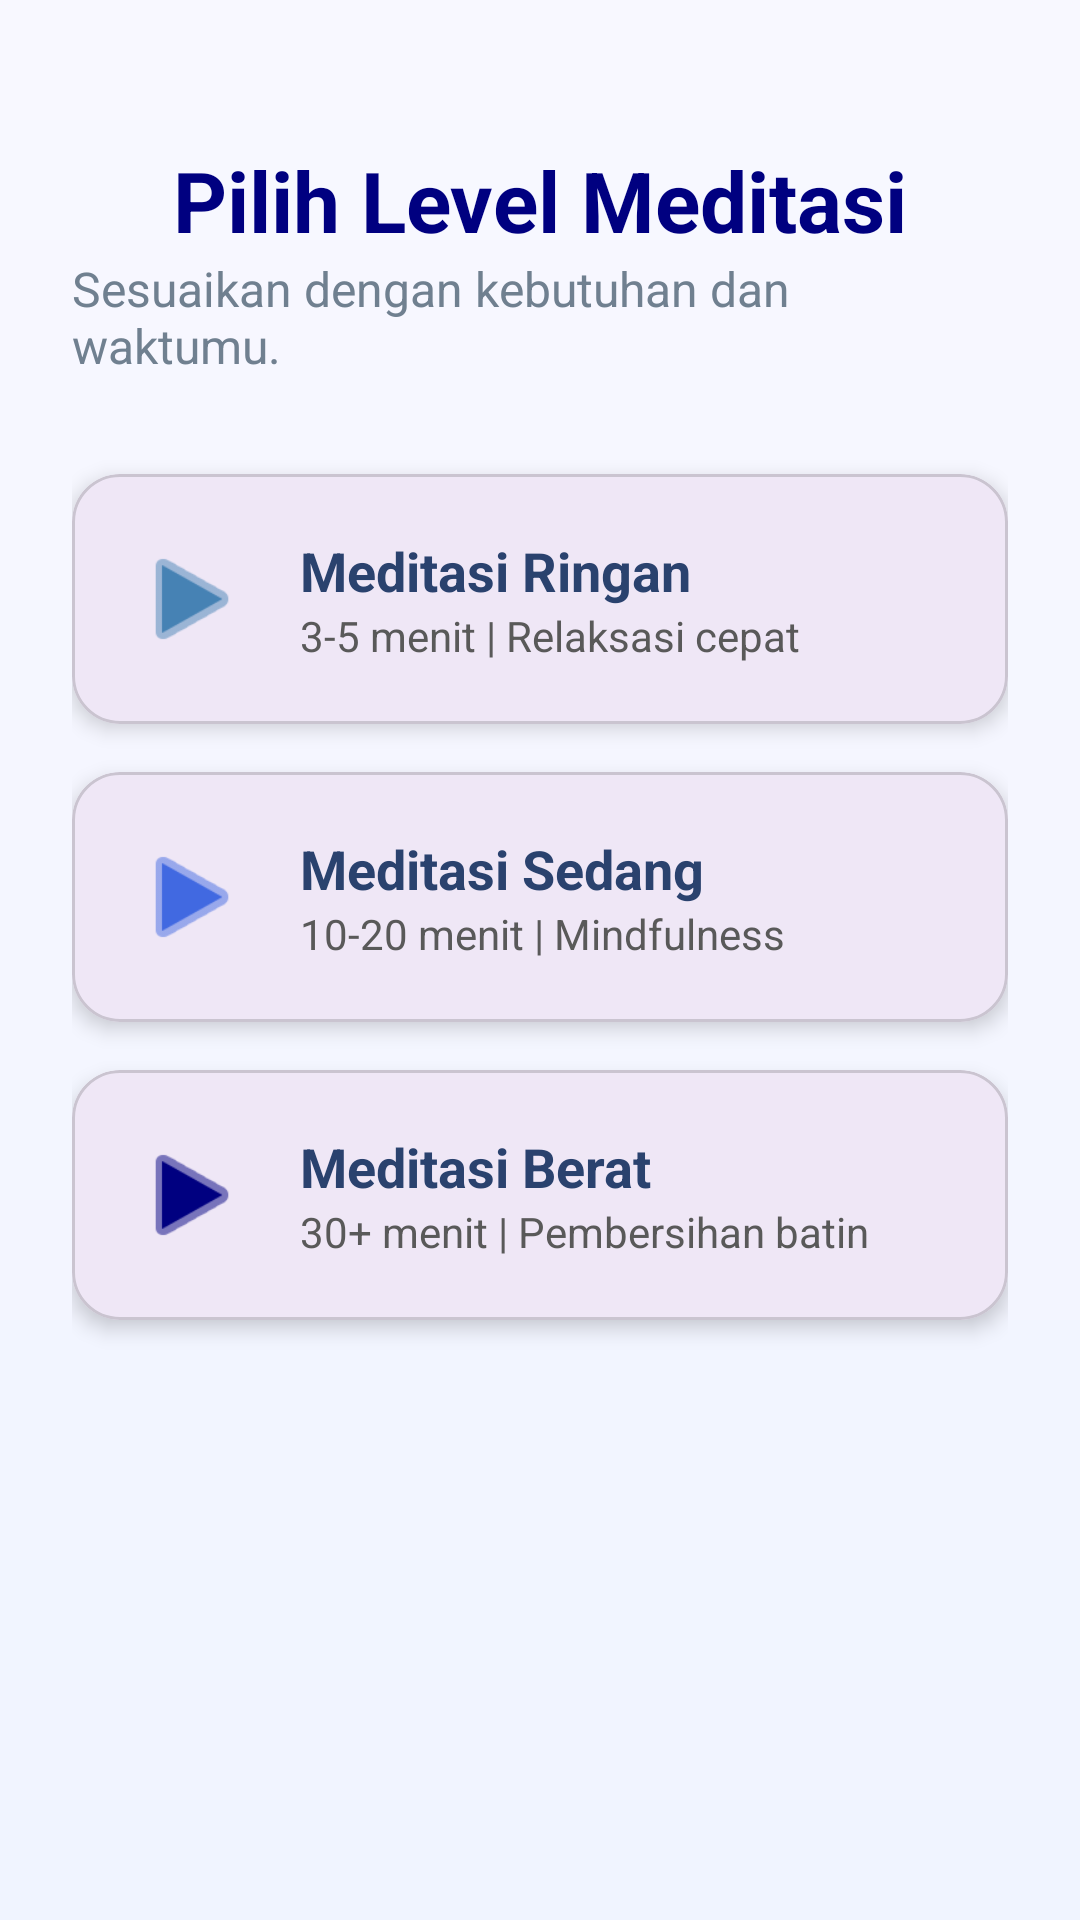

Named icons in this screenshot (1080x1920) and their centers, (x=x, y=y):
play: (x=192, y=599), (x=192, y=897), (x=192, y=1195)
